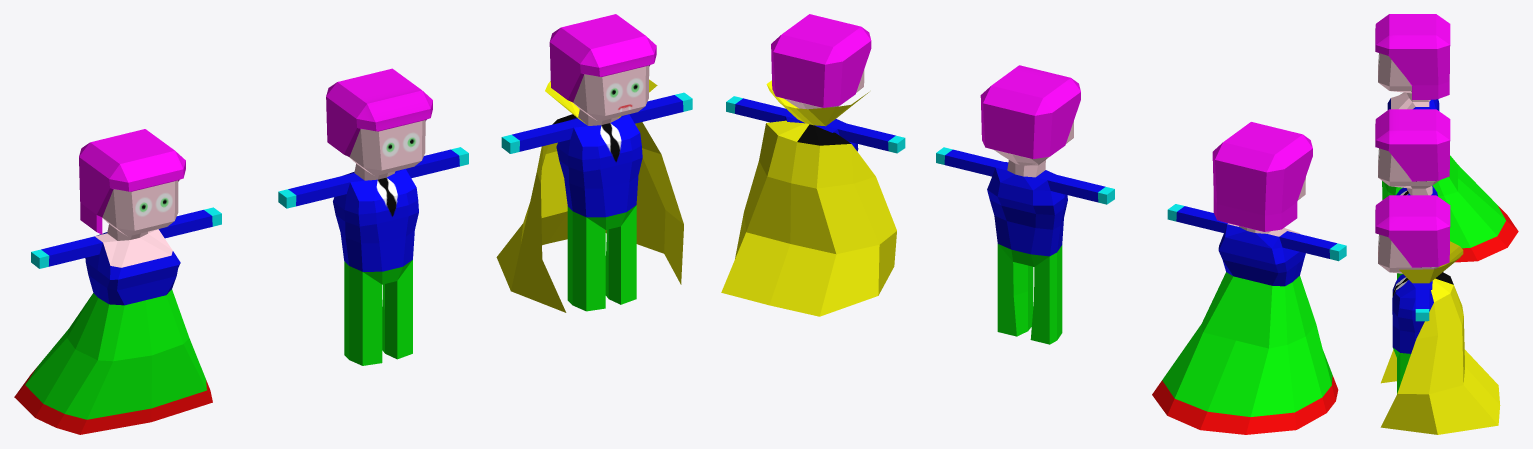
The model's file is Characters.fbx.
3 renders of one model, left to right at view 1: azimuth 30°, elevation 25°; view 2: azimuth 150°, elevation 25°; view 3: azimuth 270°, elevation 25°, orthographic. The views are drawn at different scales.
Visible parts, largest first — view 1: Woman, Vampire, Man; view 2: Vampire, Woman, Man; view 3: Vampire, Woman, Man.
Boxes of the visible parts, x1=… form: Woman: x1=14, y1=129, x2=221, y2=434; Vampire: x1=496, y1=14, x2=692, y2=312; Man: x1=278, y1=68, x2=468, y2=365; Vampire: x1=721, y1=14, x2=905, y2=316; Woman: x1=1152, y1=122, x2=1346, y2=434; Man: x1=936, y1=65, x2=1114, y2=344; Vampire: x1=1375, y1=195, x2=1500, y2=434; Woman: x1=1375, y1=14, x2=1518, y2=262; Man: x1=1375, y1=109, x2=1450, y2=279.
Bounding box in the file's own units: 423 × 166 × 102.
